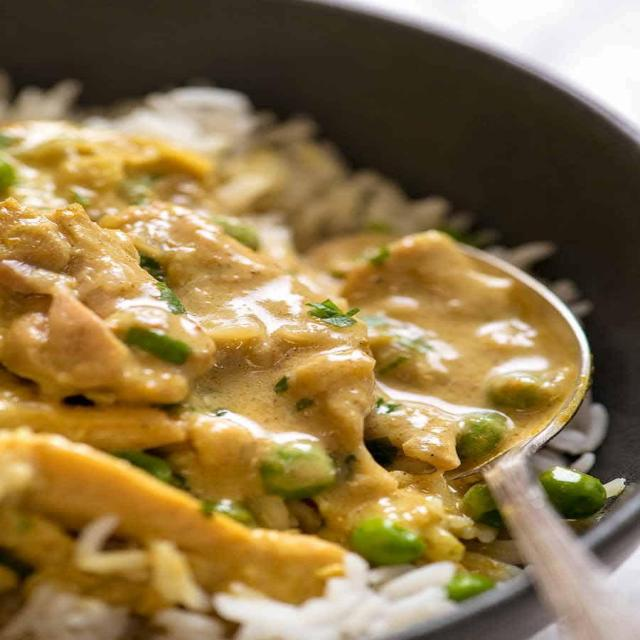chicken: (2, 121, 422, 606)
